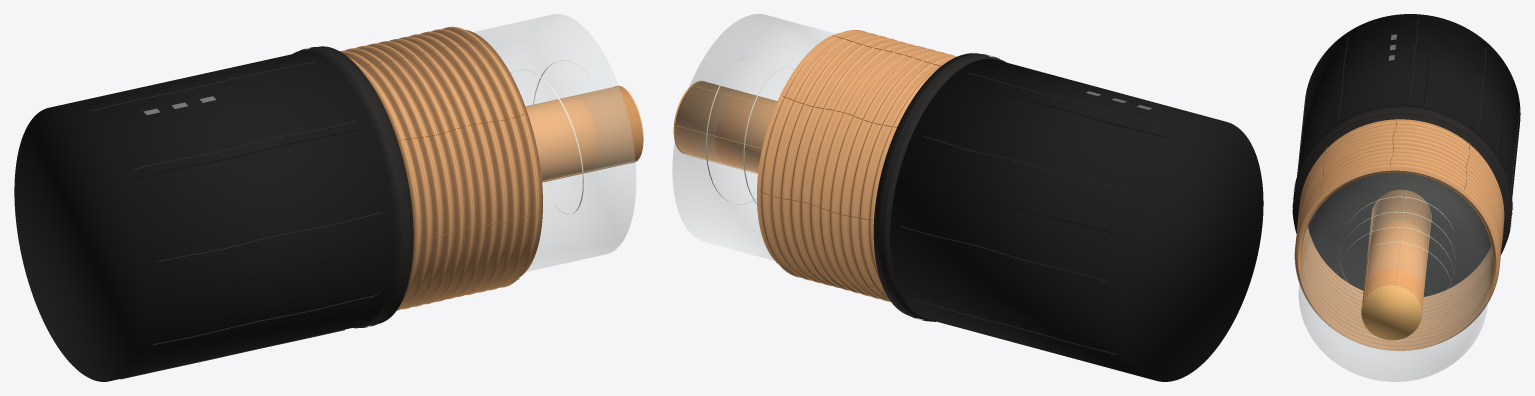
File: rf-hj4-macro.glb
3 renders of one model, left to right at view 1: azimuth 30°, elevation 25°; view 2: azimuth 150°, elevation 25°; view 3: azimuth 270°, elevation 25°, orthographic. The views are drawn at different scales.
Visible parts, largest first — view 1: macro hardline jacket body, annular corrugated solid shield, air dielectric visual envelope, polished solid center conductor, hardline jacket cut wall, rounded jacket cut lip; view 2: macro hardline jacket body, annular corrugated solid shield, air dielectric visual envelope, polished solid center conductor, hardline jacket cut wall, rounded jacket cut lip, continuous PE helical air spacer; view 3: air dielectric visual envelope, annular corrugated solid shield, macro hardline jacket body, hardline jacket cut wall, polished solid center conductor, polished conductor cut face glow, continuous PE helical air spacer, rounded jacket cut lip, inner jacket shadow bevel.
Part boxes in pixels (box(x1,y1,x2,y2)): macro hardline jacket body: box(14, 51, 395, 381); annular corrugated solid shield: box(340, 26, 542, 310); air dielectric visual envelope: box(474, 14, 635, 271); polished solid center conductor: box(525, 86, 642, 182); hardline jacket cut wall: box(293, 46, 413, 328); rounded jacket cut lip: box(299, 47, 407, 327); macro hardline jacket body: box(890, 59, 1263, 381); annular corrugated solid shield: box(757, 30, 956, 301); air dielectric visual envelope: box(672, 14, 834, 260); polished solid center conductor: box(675, 81, 777, 173); hardline jacket cut wall: box(873, 53, 1005, 321); rounded jacket cut lip: box(879, 54, 999, 321); continuous PE helical air spacer: box(706, 58, 793, 204); air dielectric visual envelope: box(1299, 173, 1492, 381); annular corrugated solid shield: box(1294, 119, 1504, 350); macro hardline jacket body: box(1297, 14, 1520, 197); hardline jacket cut wall: box(1293, 105, 1512, 296); polished solid center conductor: box(1362, 189, 1431, 310); polished conductor cut face glow: box(1361, 285, 1421, 340); continuous PE helical air spacer: box(1336, 196, 1455, 341); rounded jacket cut lip: box(1292, 106, 1512, 237); inner jacket shadow bevel: box(1295, 113, 1509, 249).
Bounding box in the file's own units: 6.51 × 2.98 × 3.09.
